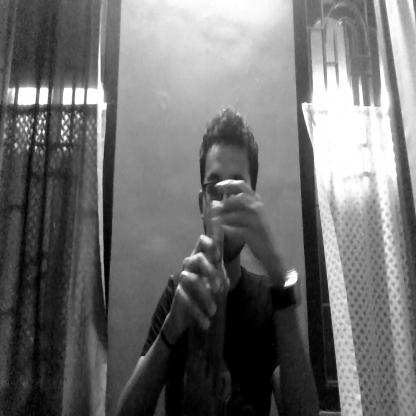Distracted: (190, 104, 262, 274)
